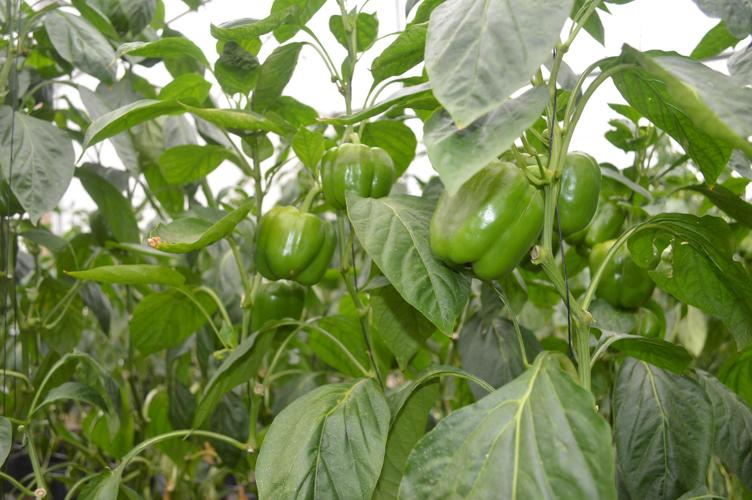BellPepper: (426, 161, 540, 282), (257, 210, 334, 282), (316, 144, 390, 204), (593, 240, 651, 307), (555, 151, 596, 242), (574, 197, 621, 256), (254, 280, 300, 329)
